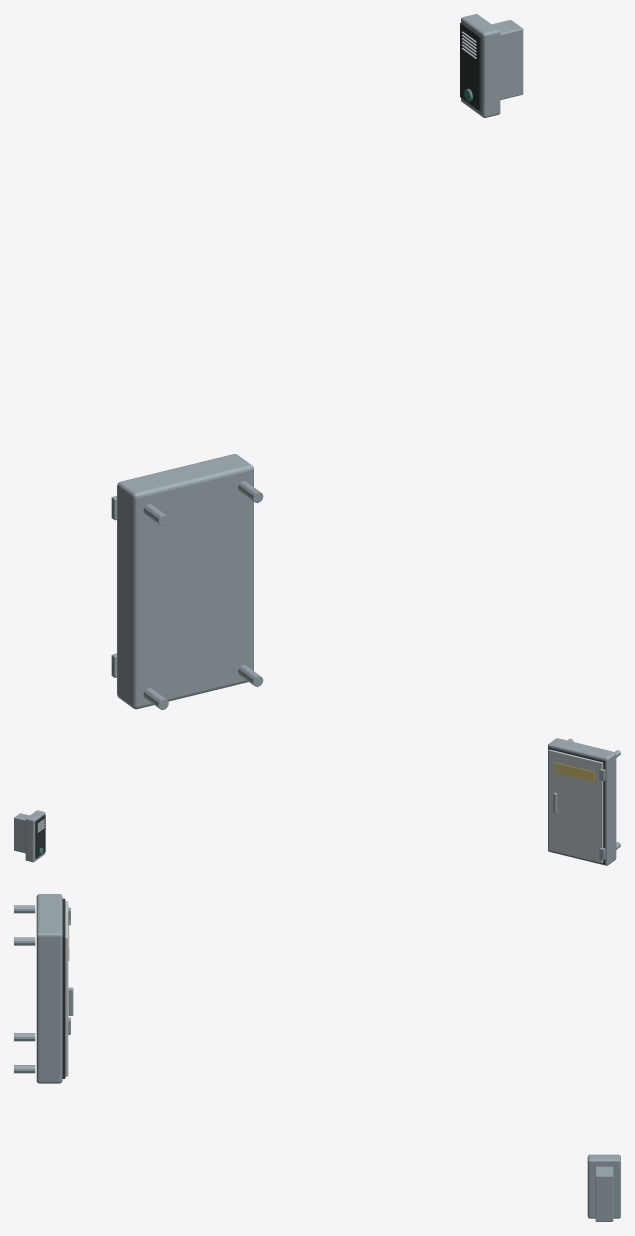
Rendered from RD_VB_SafetyEquipment.fbx.
3 renders of one model, top to bottom at view 1: azimuth 30°, elevation 25°; view 2: azimuth 150°, elevation 25°; view 3: azimuth 270°, elevation 25°, orthographic. The views are drawn at different scales.
Parts seen in each view (by area): view 1: RD_VB_SafetyEquipment; view 2: RD_VB_SafetyEquipment; view 3: RD_VB_SafetyEquipment.
Boxes of the visible parts, x1,y1,x2,y2 form: RD_VB_SafetyEquipment: [111, 14, 523, 709]; RD_VB_SafetyEquipment: [14, 738, 620, 865]; RD_VB_SafetyEquipment: [14, 894, 620, 1221].
Bounding box in the file's own units: 536 × 140 × 512.
